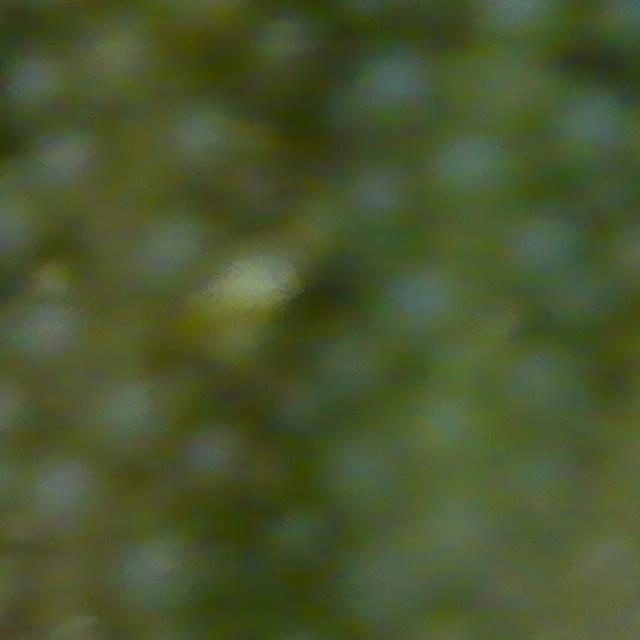SeaGrape: (354, 254, 470, 361), (322, 150, 426, 261), (108, 513, 214, 620), (65, 10, 168, 120), (334, 43, 439, 150), (317, 417, 419, 524), (77, 364, 184, 465), (22, 439, 122, 539), (429, 131, 528, 222), (122, 192, 212, 292), (548, 81, 640, 174), (157, 93, 250, 185), (22, 119, 114, 211), (242, 0, 331, 94), (0, 289, 90, 381), (405, 389, 493, 480), (495, 202, 588, 287), (175, 413, 261, 502), (470, 0, 580, 57), (0, 43, 78, 120), (261, 499, 336, 574)
